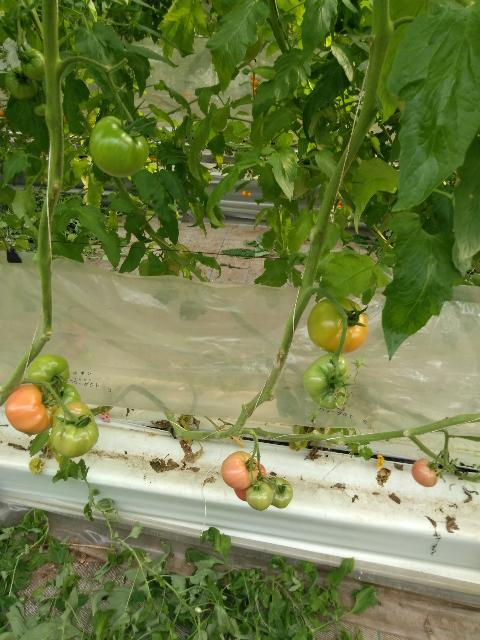b_green: (89, 116, 149, 177), (50, 401, 99, 458), (302, 354, 350, 410), (28, 354, 70, 391), (5, 66, 38, 100), (266, 477, 293, 509), (246, 480, 273, 511), (20, 48, 45, 81), (49, 383, 81, 408), (163, 244, 190, 272), (33, 104, 45, 117)
b_half_ripened: (307, 296, 369, 354), (5, 385, 59, 435), (220, 451, 258, 490), (411, 458, 438, 488)
